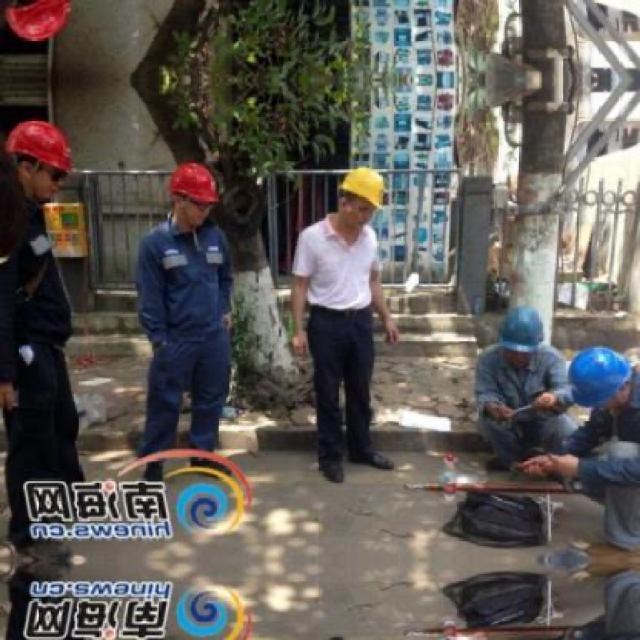helmet: (5, 116, 80, 204), (566, 343, 637, 411), (164, 157, 224, 231), (335, 162, 391, 229), (4, 0, 82, 46), (495, 300, 551, 362)
